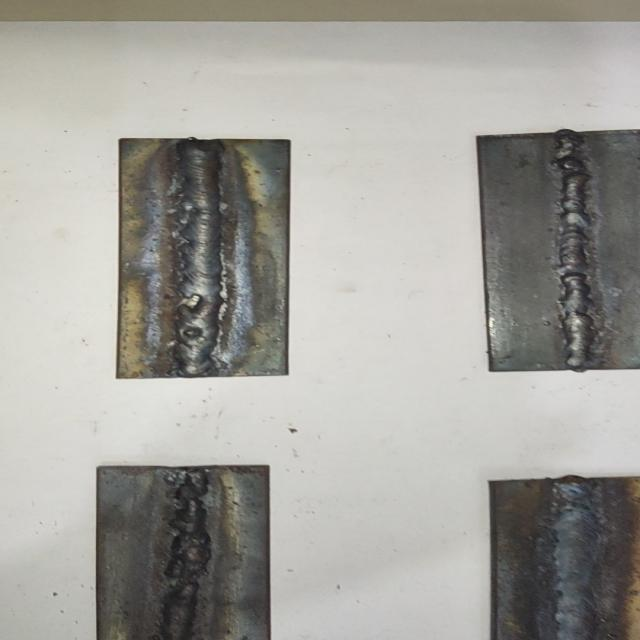Defect: (552, 134, 604, 360), (160, 469, 216, 600), (172, 281, 222, 378)
Welding Line: (553, 136, 596, 367), (177, 142, 218, 372), (164, 469, 212, 640), (556, 480, 598, 640)
Workpiece: (113, 134, 303, 384), (470, 122, 640, 376), (88, 462, 276, 640), (483, 476, 640, 640)
